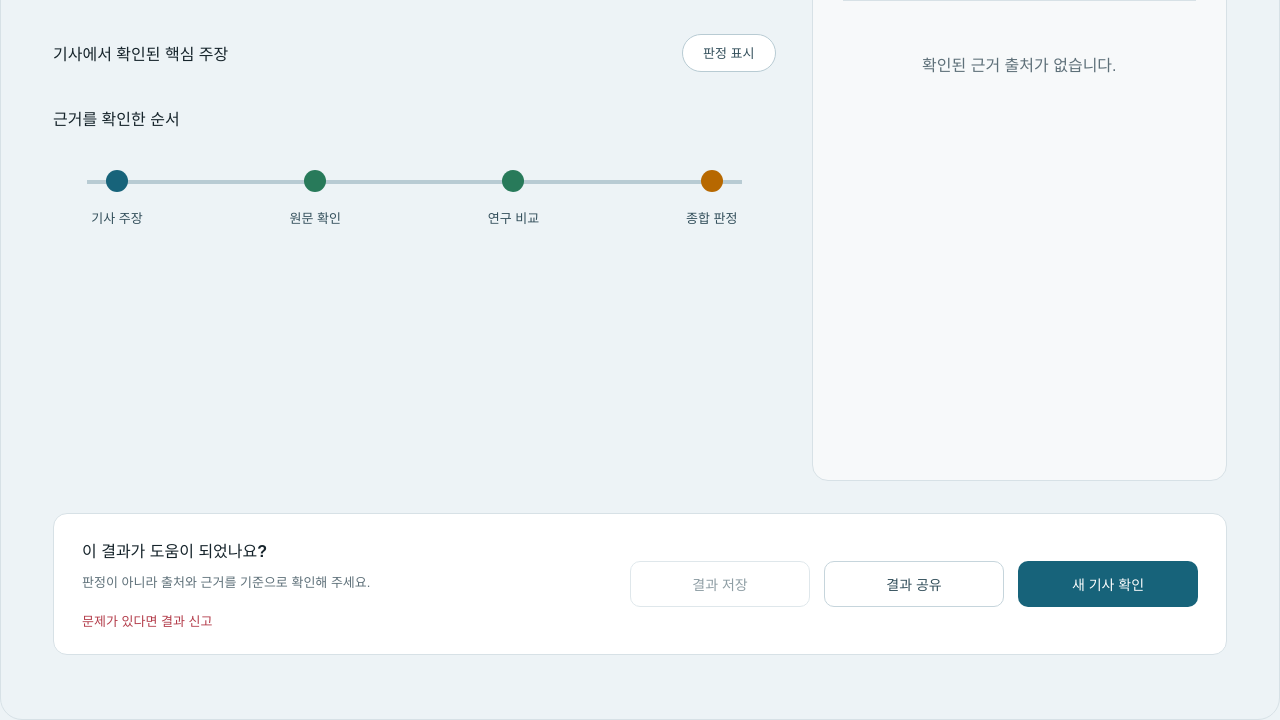
Test case: HealthResultPage report flow › 비로그인 사용자의 공유 생성을 차단한다
(page scrolled)
Click the button "결과 공유" at (914, 584), box [824,561,1004,607]
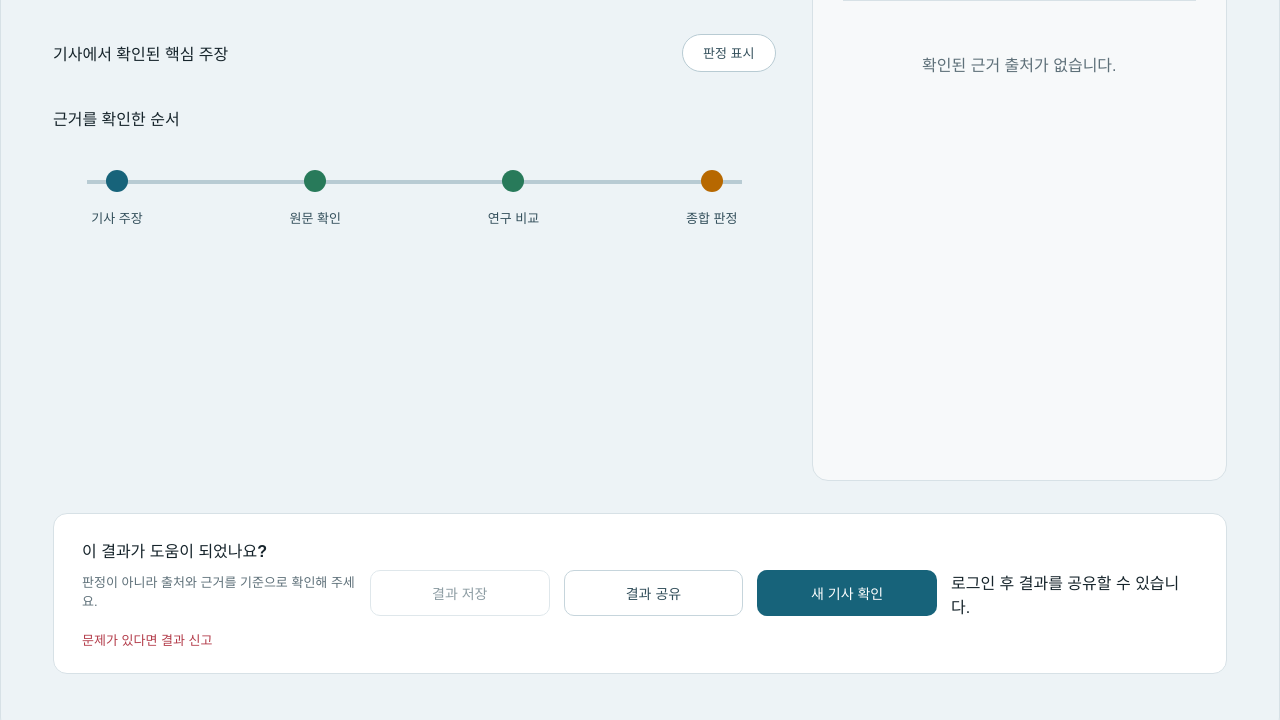
Now the message reads "로그인 후 결과를 공유할 수 있습니다.", box [951,574,1179,616]
